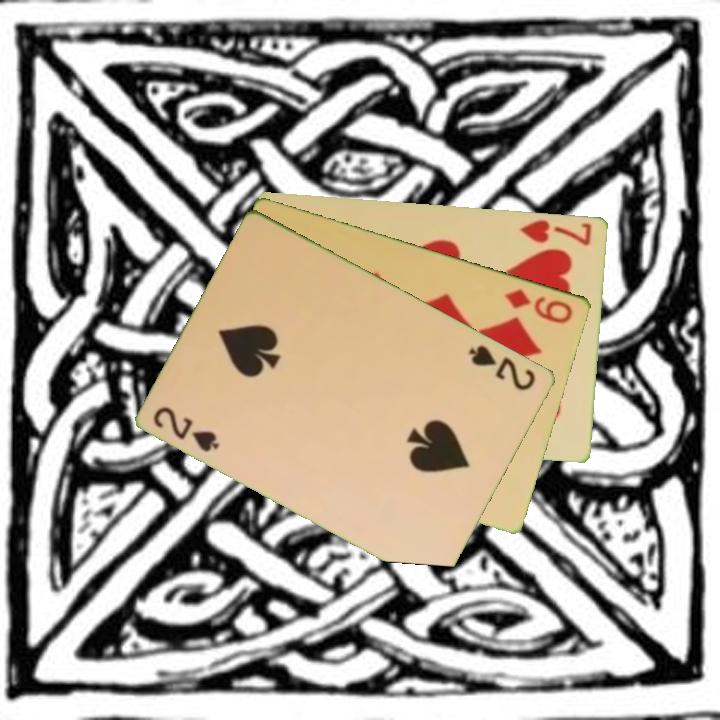2s: (465, 341, 540, 394), (150, 402, 223, 455)
7h: (518, 216, 595, 248)
9d: (501, 285, 576, 327)
